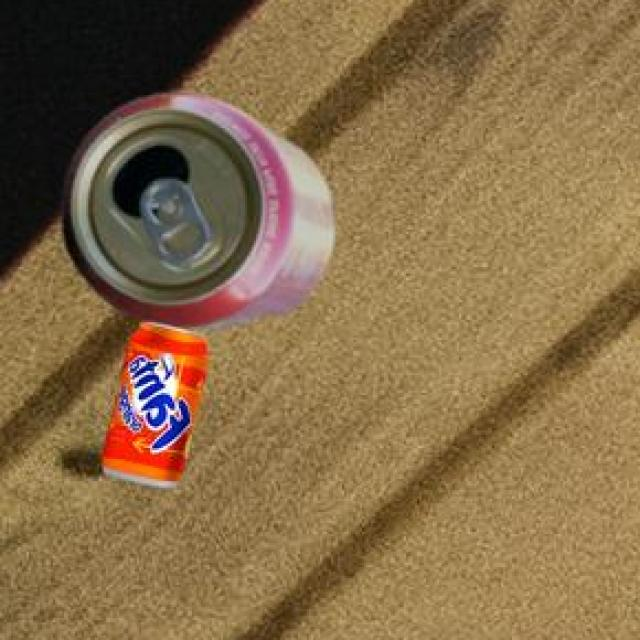logam: (65, 92, 337, 326), (105, 319, 211, 484)
